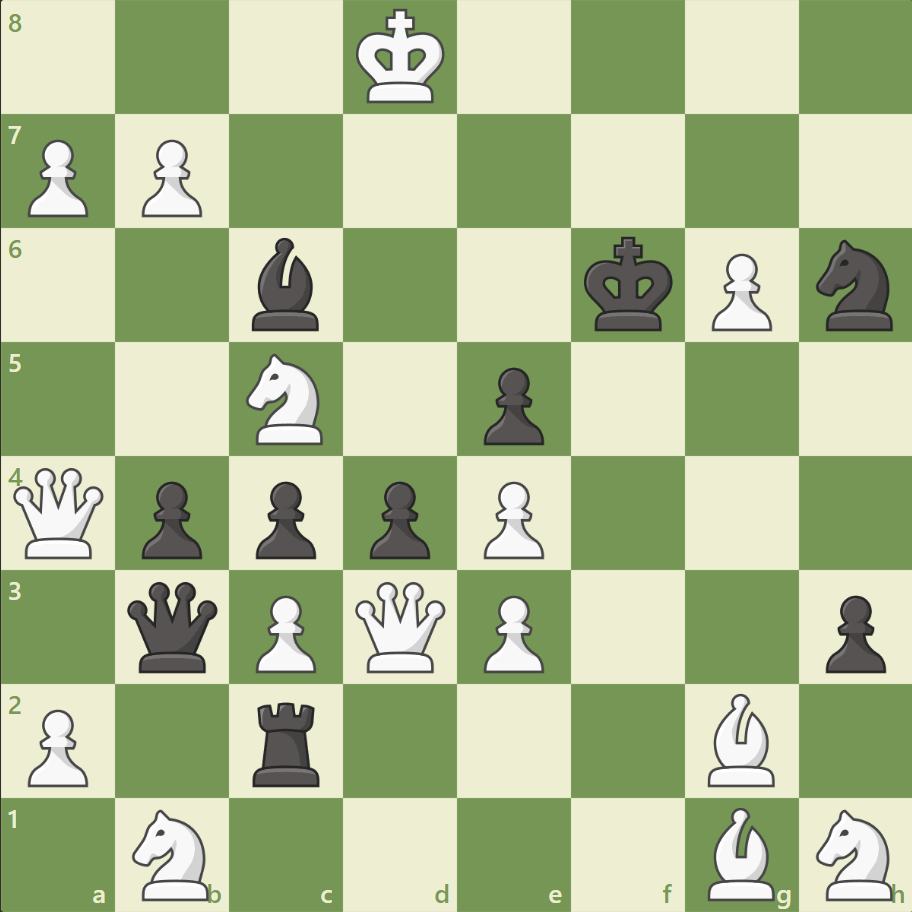B: (698, 687, 782, 790), (698, 801, 782, 904)
K: (351, 4, 451, 112)
N: (124, 802, 222, 904), (238, 348, 335, 450), (806, 802, 903, 904)
P: (20, 132, 95, 223), (133, 132, 208, 223), (701, 246, 776, 337), (474, 473, 549, 564), (247, 586, 322, 677), (474, 586, 549, 677), (20, 700, 95, 791)
Q: (351, 576, 450, 676), (10, 463, 109, 562)
b: (244, 233, 328, 336)
k: (579, 231, 679, 339)
n: (806, 234, 903, 337)
p: (474, 359, 549, 450), (133, 473, 208, 564), (247, 473, 322, 564), (361, 473, 435, 564), (815, 586, 889, 677)
q: (124, 576, 223, 676)
r: (246, 693, 329, 790)
